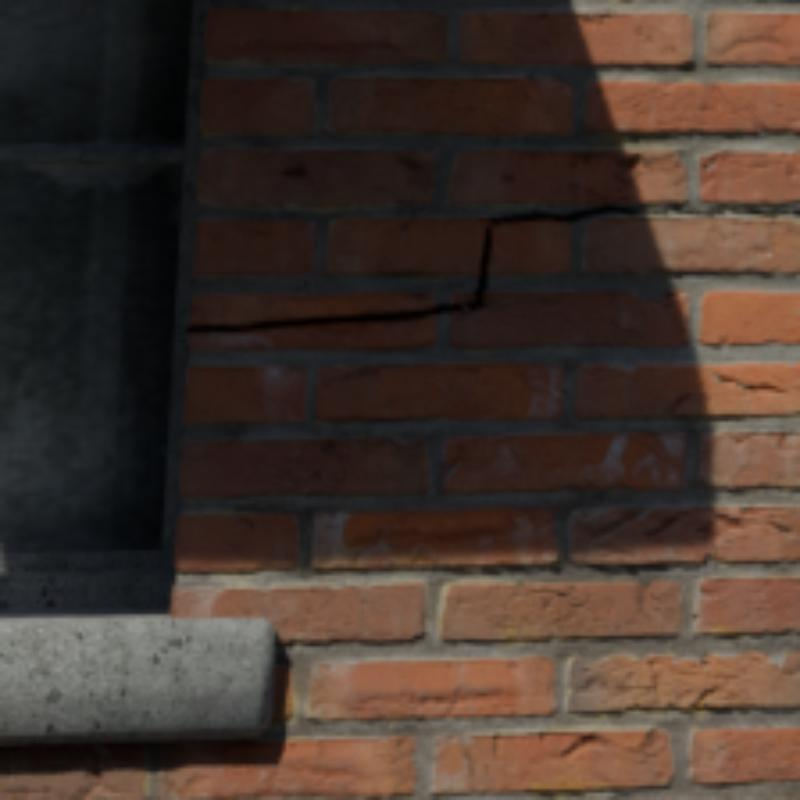crack: (332, 207, 796, 318), (189, 318, 319, 329)
